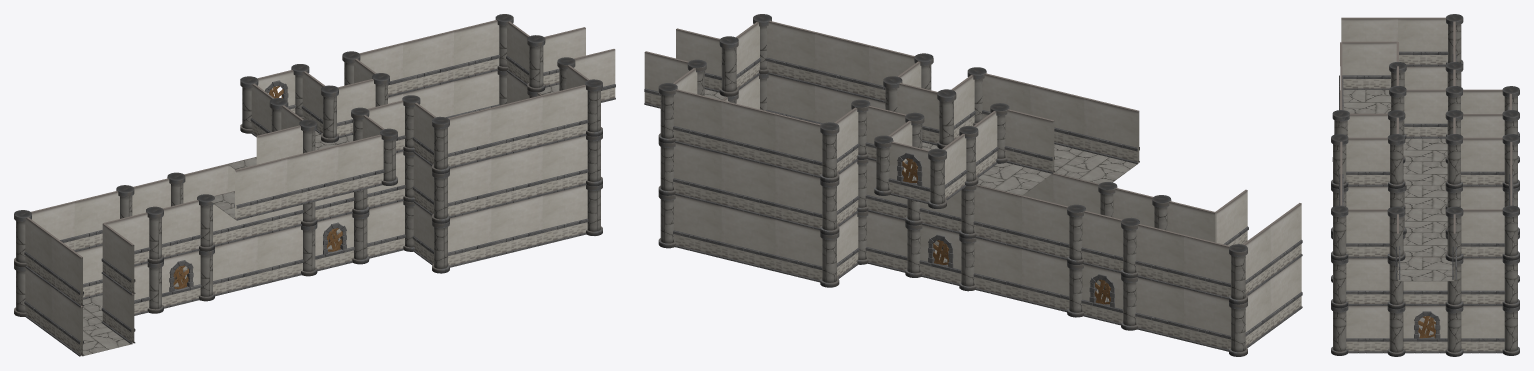
File: SM_bridgeRoom.fbx
3 renders of one model, left to right at view 1: azimuth 30°, elevation 25°; view 2: azimuth 150°, elevation 25°; view 3: azimuth 270°, elevation 25°, orthographic. The views are drawn at different scales.
Parts seen in each view (by area): view 1: SM_wall85, SM_wall128, SM_wall108, SM_wall70, SM_wall109, SM_wall76, SM_wall82, SM_wall74, SM_wall107, SM_wall103, SM_wall137, SM_wall75 (+65 smaller); view 2: SM_wall85, SM_wall70, SM_wall108, SM_wall121, SM_wall114, SM_wall99, SM_wall107, SM_wall74, SM_wall120, SM_wall105, SM_wall94, SM_wall123 (+69 smaller); view 3: SM_wall89, SM_wall125, SM_wall134, SM_wall129, SM_wall139, SM_wall110, SM_wall83, SM_wallWindow4, SM_wall118, SM_wall92, SM_wall71, SM_wall73 (+47 smaller).
Boxes of the visible parts, bbox=[...] form: SM_wall85: bbox=[234, 157, 287, 220]; SM_wall128: bbox=[286, 145, 338, 207]; SM_wall108: bbox=[490, 95, 543, 158]; SM_wall70: bbox=[402, 30, 454, 93]; SM_wall109: bbox=[491, 196, 543, 257]; SM_wall76: bbox=[491, 146, 543, 207]; SM_wall82: bbox=[337, 134, 384, 195]; SM_wall74: bbox=[453, 20, 499, 80]; SM_wall107: bbox=[542, 85, 588, 145]; SM_wall103: bbox=[257, 226, 303, 285]; SM_wall137: bbox=[542, 185, 588, 244]; SM_wall75: bbox=[542, 135, 588, 195]; SM_wall85: bbox=[1083, 97, 1139, 164]; SM_wall70: bbox=[721, 100, 776, 166]; SM_wall108: bbox=[814, 32, 869, 98]; SM_wall121: bbox=[721, 206, 775, 271]; SM_wall114: bbox=[721, 154, 775, 219]; SM_wall99: bbox=[1004, 109, 1054, 173]; SM_wall107: bbox=[765, 21, 815, 85]; SM_wall74: bbox=[673, 89, 722, 153]; SM_wall120: bbox=[1135, 224, 1184, 288]; SM_wall105: bbox=[775, 113, 822, 177]; SM_wall94: bbox=[1021, 195, 1069, 259]; SM_wall123: bbox=[973, 184, 1022, 248]; SM_wall89: bbox=[1341, 41, 1397, 89]; SM_wall125: bbox=[1398, 17, 1448, 66]; SM_wall134: bbox=[1346, 137, 1389, 186]; SM_wall129: bbox=[1461, 137, 1504, 186]; SM_wall139: bbox=[1346, 209, 1389, 258]; SM_wall110: bbox=[1461, 209, 1504, 258]; SM_wall83: bbox=[1404, 89, 1447, 138]; SM_wallWindow4: bbox=[1403, 305, 1447, 353]; SM_wall118: bbox=[1346, 305, 1389, 353]; SM_wall92: bbox=[1461, 305, 1504, 353]; SM_wall71: bbox=[1461, 258, 1504, 305]; SM_wall73: bbox=[1346, 258, 1389, 305].
Bounding box in the file's own units: 67.38 × 16.84 × 20.16.
